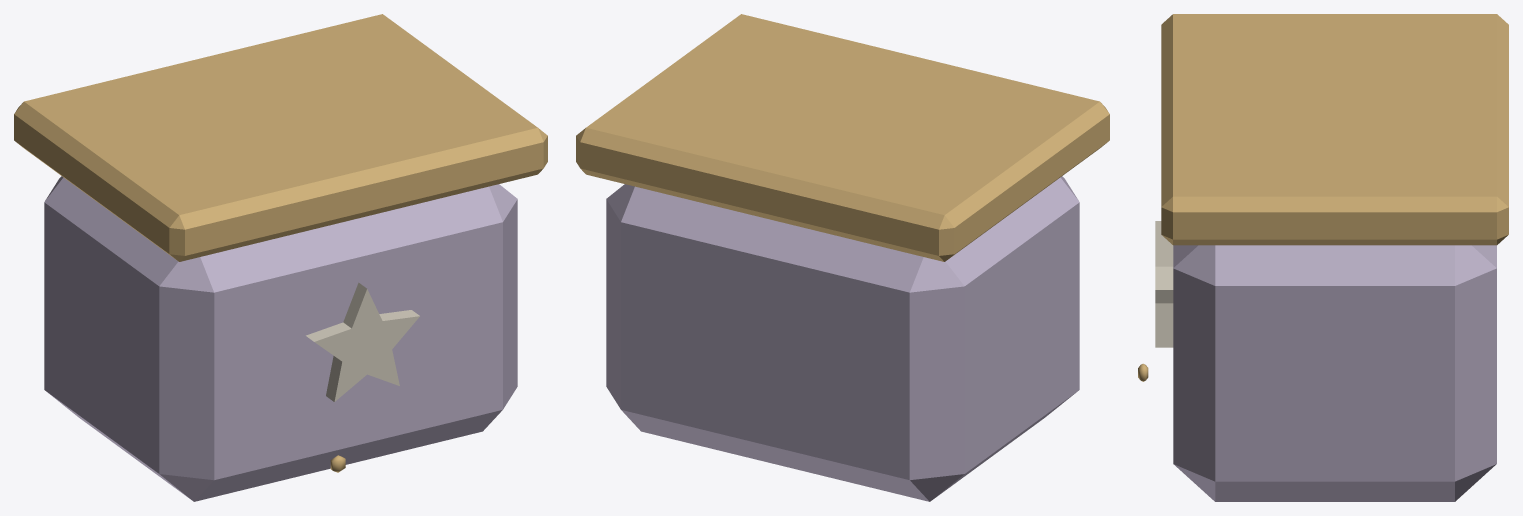
3 renders of one model, left to right at view 1: azimuth 30°, elevation 25°; view 2: azimuth 150°, elevation 25°; view 3: azimuth 270°, elevation 25°, orthographic. The views are drawn at different scales.
Parts seen in each view (by area): view 1: st07; view 2: st07; view 3: st07.
Part boxes in pixels (x1=…): st07: x1=14, y1=14, x2=547, y2=501; st07: x1=576, y1=14, x2=1109, y2=501; st07: x1=1138, y1=14, x2=1508, y2=501.
Bounding box in the file's own units: 0.38 × 0.2975 × 0.3093.
